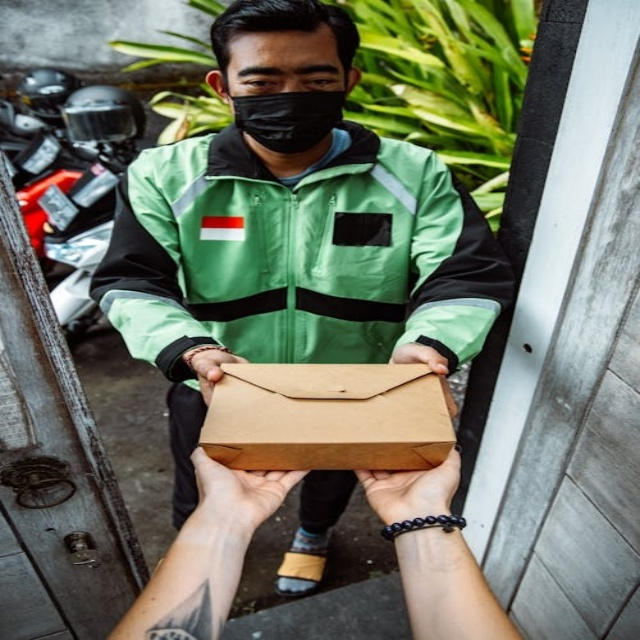Mascara: (229, 89, 346, 151)
Sin_gafas: (234, 66, 343, 92)
Sin_guantes: (189, 442, 311, 525), (353, 442, 464, 531), (383, 337, 467, 422), (179, 345, 246, 395)
